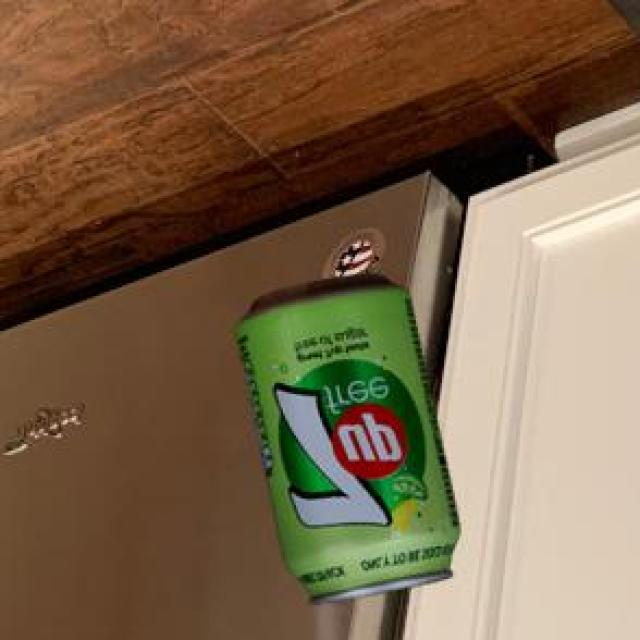logam: (232, 278, 456, 606)
